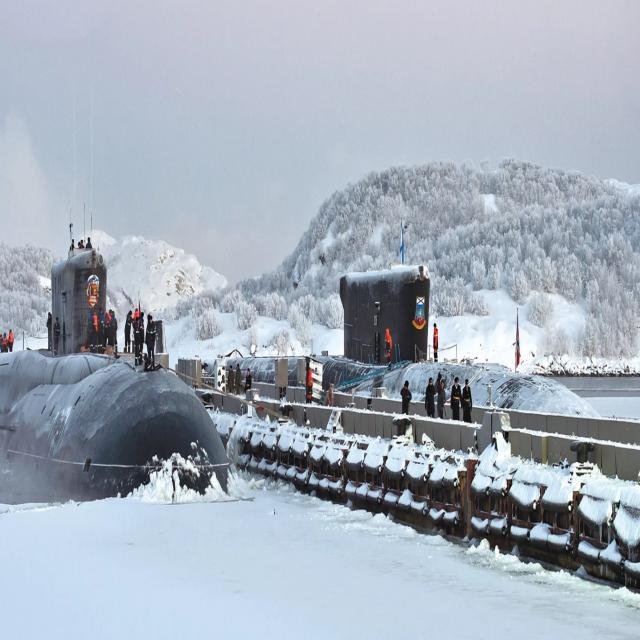submarine: (1, 189, 254, 508)
